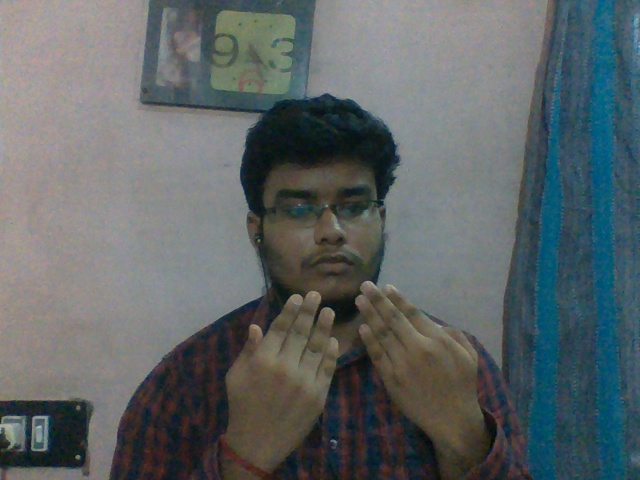ThankYou: (222, 279, 480, 447)
